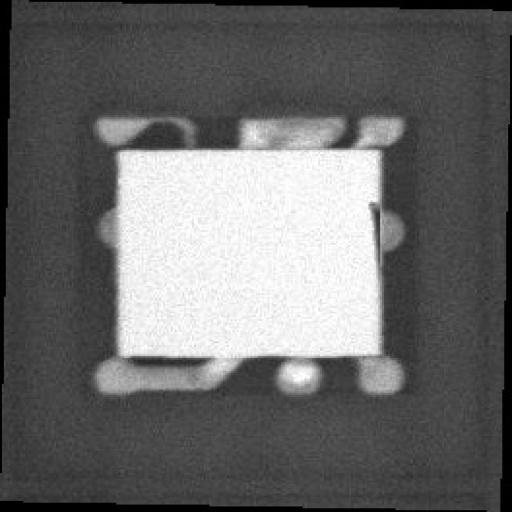DIE_BROKEN: (363, 195, 380, 263)
